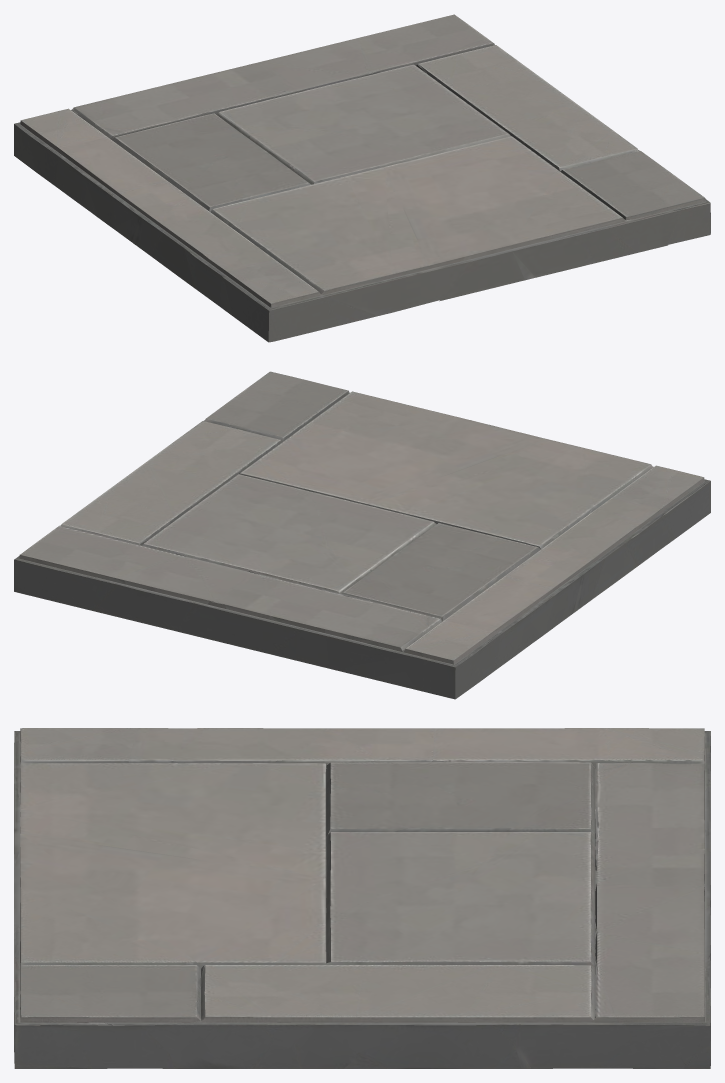
File: stonePaver.glb
3 renders of one model, top to bottom at view 1: azimuth 30°, elevation 25°; view 2: azimuth 150°, elevation 25°; view 3: azimuth 270°, elevation 25°, orthographic. The views are drawn at different scales.
Parts seen in each view (by area): view 1: Mesh_0; view 2: Mesh_0; view 3: Mesh_0.
Part boxes in pixels (bbox=[...]): Mesh_0: bbox=[14, 14, 710, 342]; Mesh_0: bbox=[14, 371, 710, 699]; Mesh_0: bbox=[14, 728, 710, 1068].
Size of the model in its own units: 1 by 0.08 by 1.
Materials: 1 (1 with a texture image).
